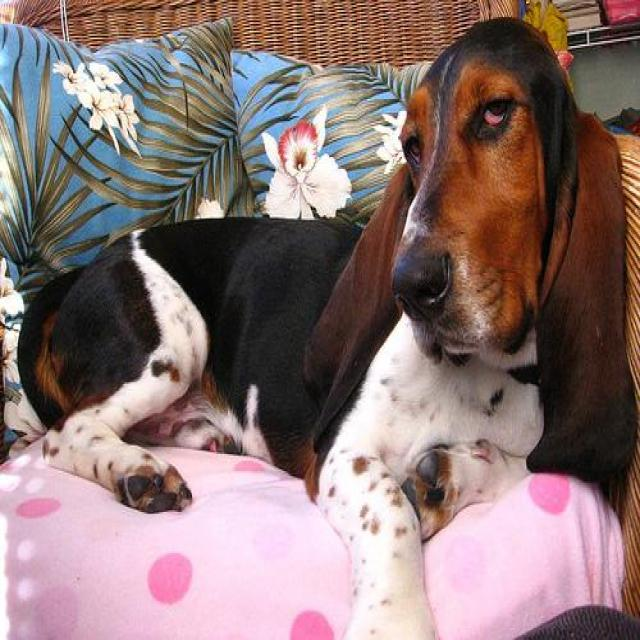basset: (18, 12, 637, 633)
